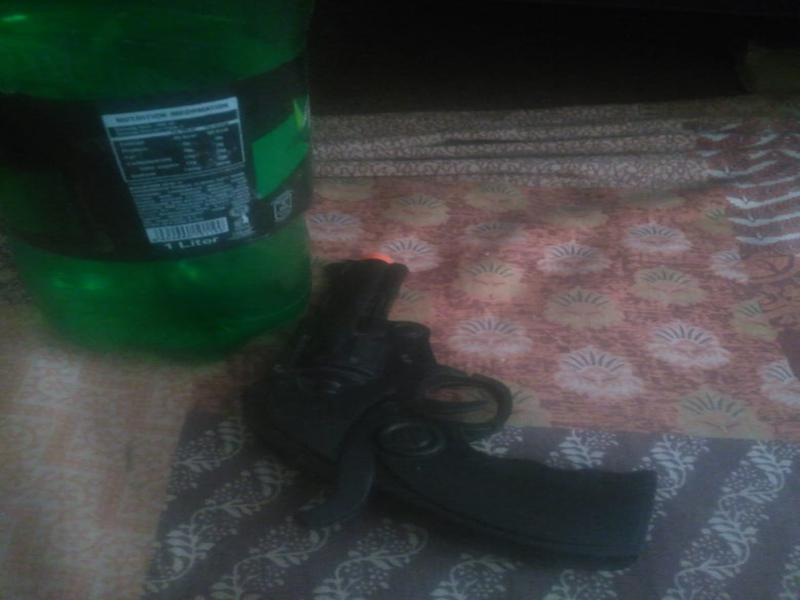gun: (245, 235, 694, 584)
